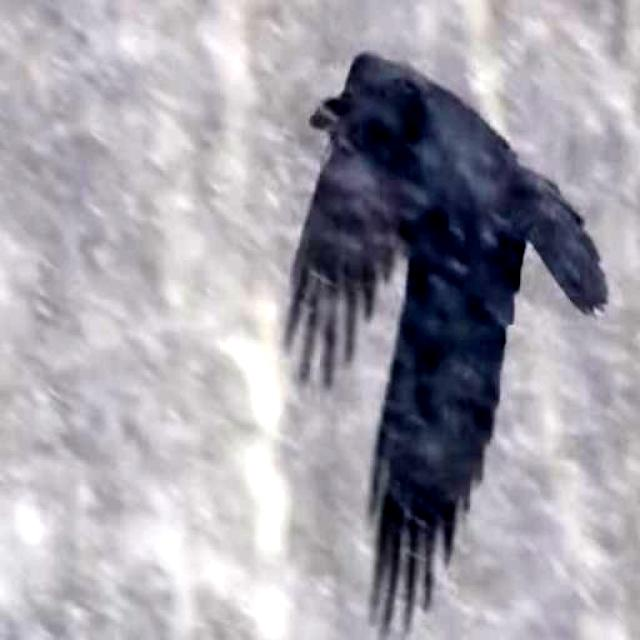airplane: (290, 51, 610, 626)
